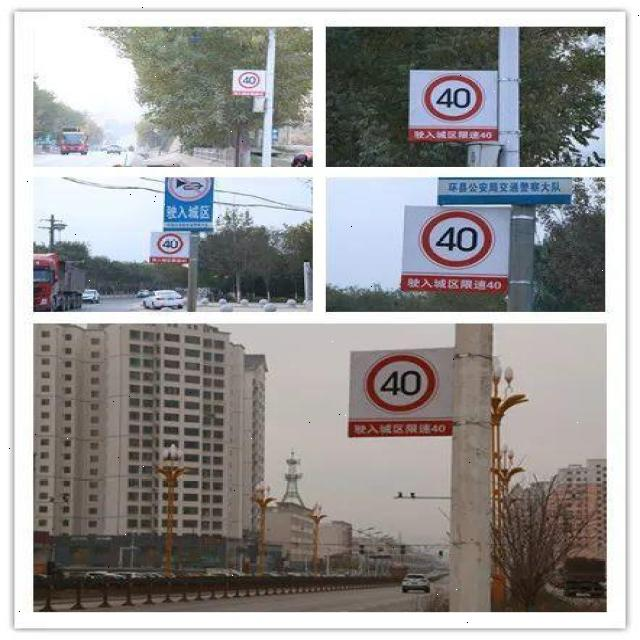speed limit 40: (364, 353, 440, 415), (419, 211, 496, 270), (421, 73, 485, 123), (155, 233, 185, 256), (237, 71, 262, 91)
